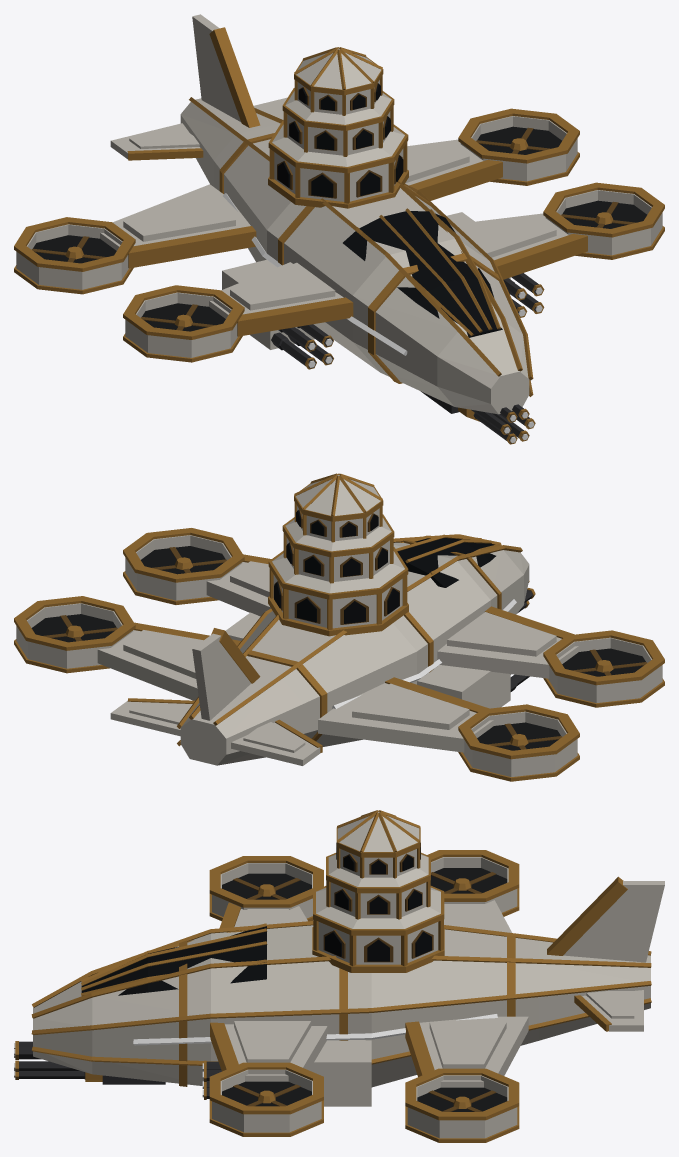
The model's file is gunship_t3.glb.
3 views of the same model, one above another, from view 1: azimuth 30°, elevation 25°; view 2: azimuth 150°, elevation 25°; view 3: azimuth 270°, elevation 25° (orthographic).
Visible parts, largest first — view 1: body; view 2: body; view 3: body.
Boxes of the visible parts, bbox=[...] form: body: bbox=[14, 14, 664, 444]; body: bbox=[14, 473, 664, 781]; body: bbox=[14, 810, 664, 1142].
Bounding box in the file's own units: 11.02 × 5.22 × 11.37.
